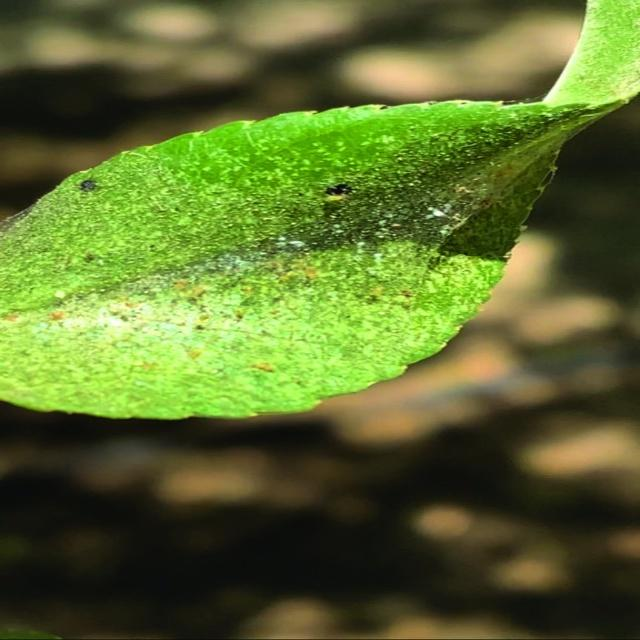leaf_spot: (220, 154, 440, 295)
shot_hole: (0, 70, 630, 446)
